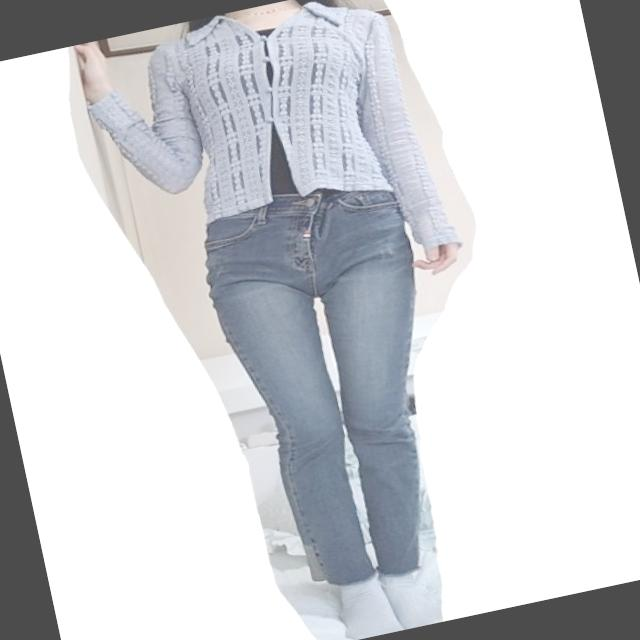cardigan: (74, 0, 462, 314)
denimpants: (192, 158, 486, 602)
